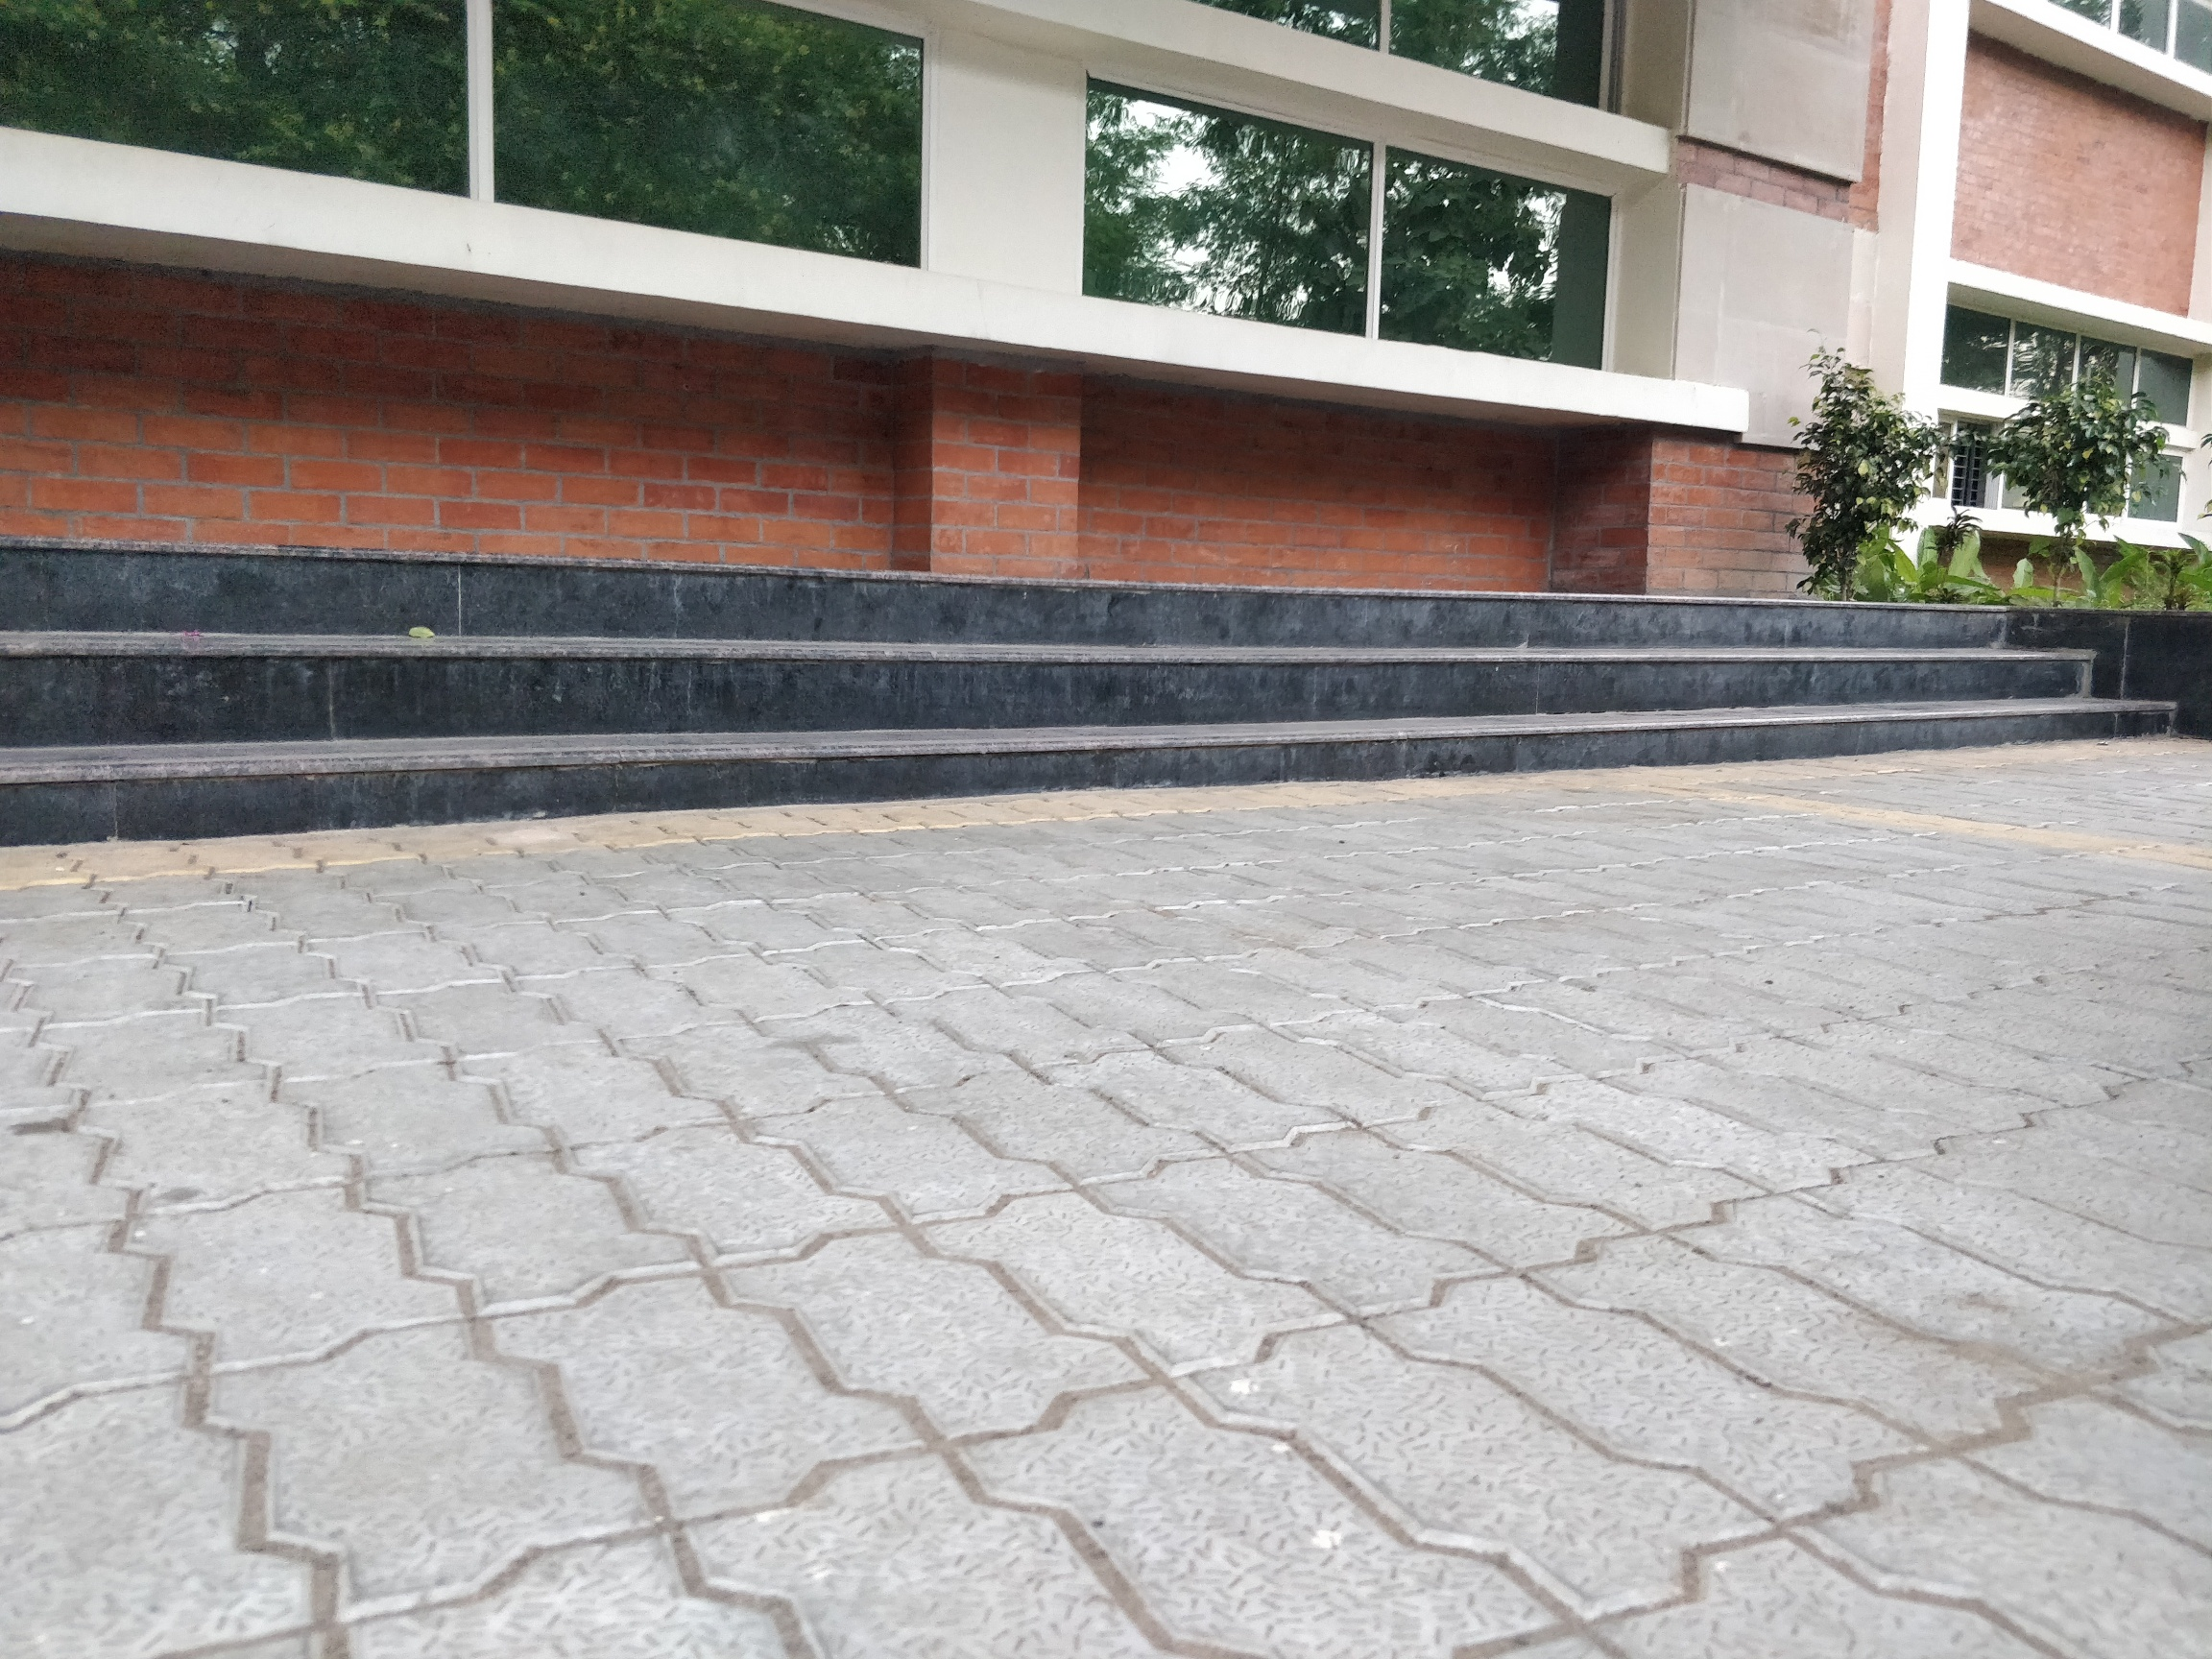stairs_up: (3, 505, 2175, 760)
